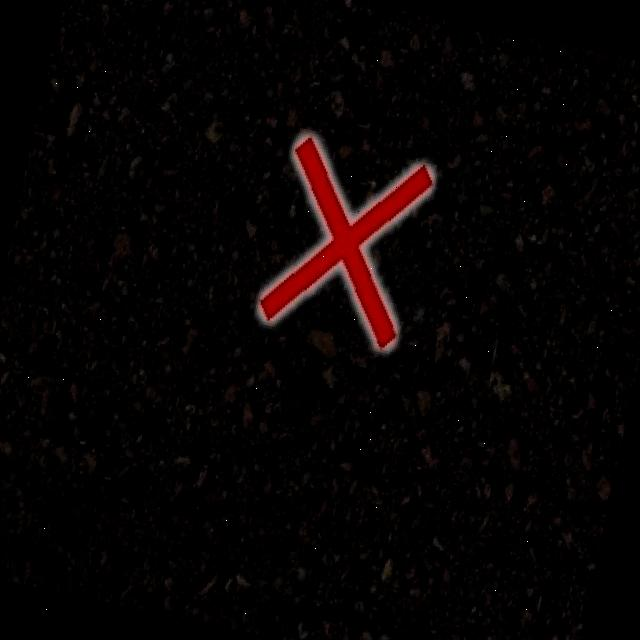x_marker: (256, 134, 434, 348)
